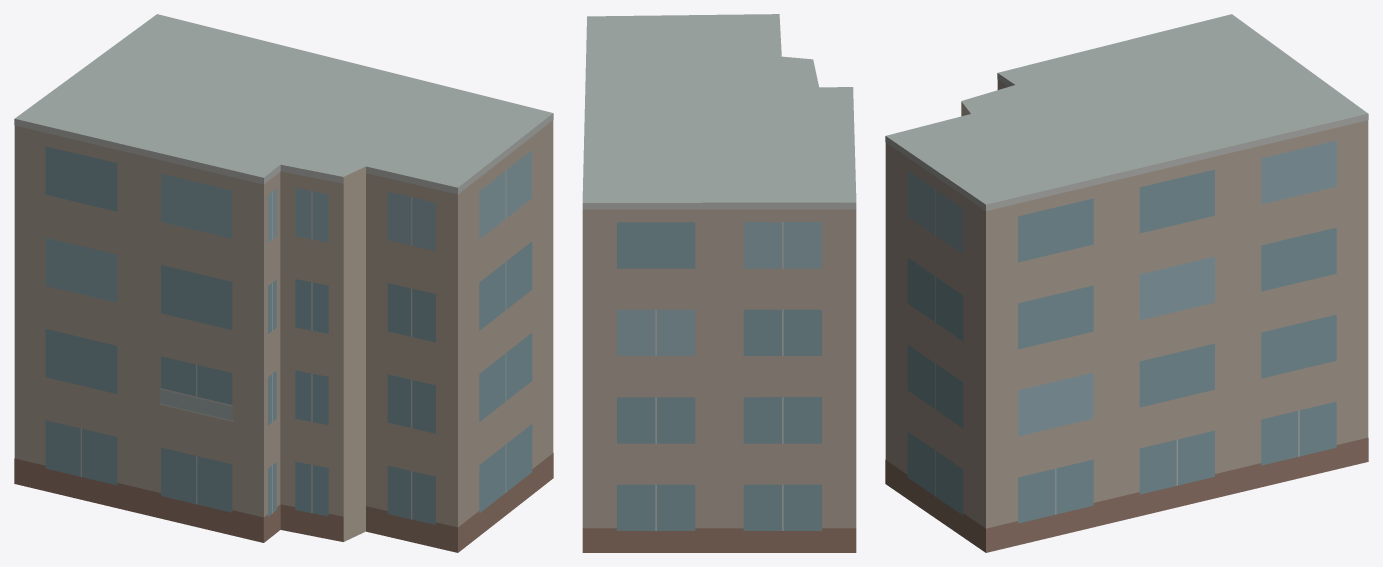
File: survey-upis-32604168.glb
3 views of the same model, side by side, from view 1: azimuth 30°, elevation 25°; view 2: azimuth 150°, elevation 25°; view 3: azimuth 270°, elevation 25° (orthographic). The views are drawn at different scales.
Visible parts, largest first — view 1: survey-upis-32604168.tmp; view 2: survey-upis-32604168.tmp; view 3: survey-upis-32604168.tmp.
Boxes of the visible parts, box(x1,y1,x2,y2) form: survey-upis-32604168.tmp: box(14, 14, 553, 552); survey-upis-32604168.tmp: box(582, 14, 856, 552); survey-upis-32604168.tmp: box(885, 14, 1368, 552).
Bounding box in the file's own units: 15.46 × 13.15 × 16.54.
